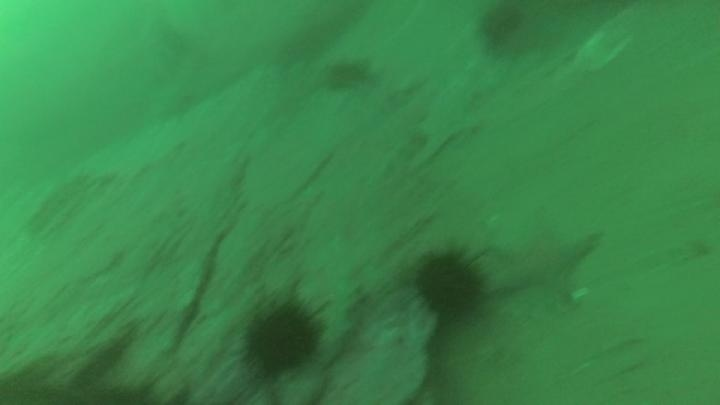echinus: (239, 293, 327, 380), (410, 245, 490, 323), (476, 2, 528, 52), (322, 54, 375, 94)
starfish: (484, 210, 603, 309)
